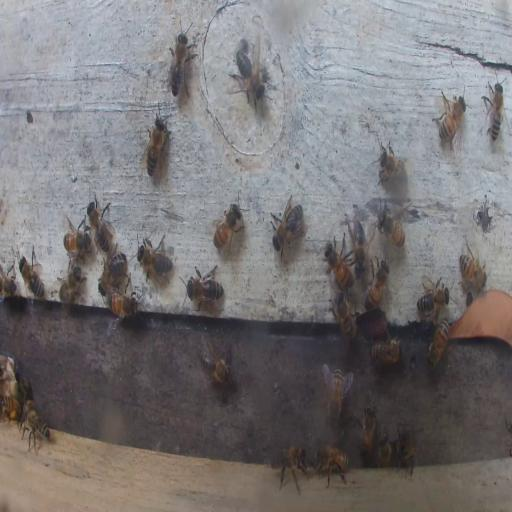bee: (168, 18, 197, 98), (231, 46, 266, 112), (270, 442, 310, 495), (433, 89, 467, 151), (270, 195, 304, 257), (183, 263, 224, 311), (143, 108, 169, 179), (137, 235, 173, 286), (324, 364, 352, 425), (312, 444, 350, 488), (20, 401, 52, 453), (85, 196, 114, 252), (212, 200, 242, 254), (199, 336, 231, 386), (325, 238, 354, 292), (483, 76, 505, 145), (417, 277, 450, 320), (459, 242, 486, 292), (376, 204, 406, 249), (19, 249, 45, 300), (363, 260, 389, 310), (377, 140, 406, 184), (395, 422, 417, 478), (333, 294, 358, 342), (426, 317, 450, 366), (62, 219, 92, 258), (99, 252, 127, 292), (59, 262, 84, 306), (370, 337, 403, 367), (358, 403, 376, 457), (109, 291, 140, 319), (352, 220, 366, 272), (376, 427, 392, 467), (1, 270, 18, 301), (2, 396, 18, 420), (18, 377, 30, 403)
